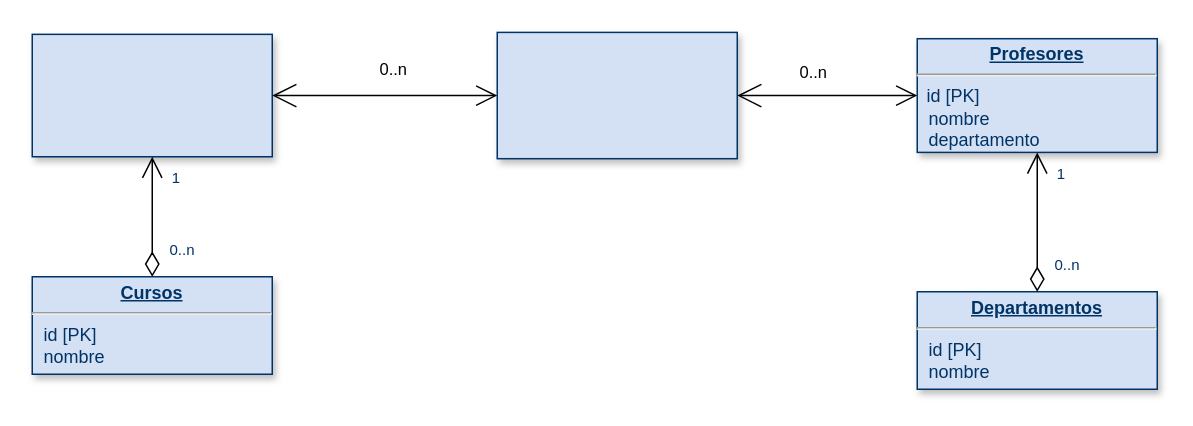
The diagram is 1193 pixels wide and 426 high, and some of its shapes have lost their labels. The shapes that lost their labels are listed below. From the top down, each one's centre as x and y in pixels, then its label:
the point at 153,97: Alumnos rut [PK] nombre curso [FK]
the point at 618,97: Pruebas alumno_id [FK] profesor_id [FK] puntaje
